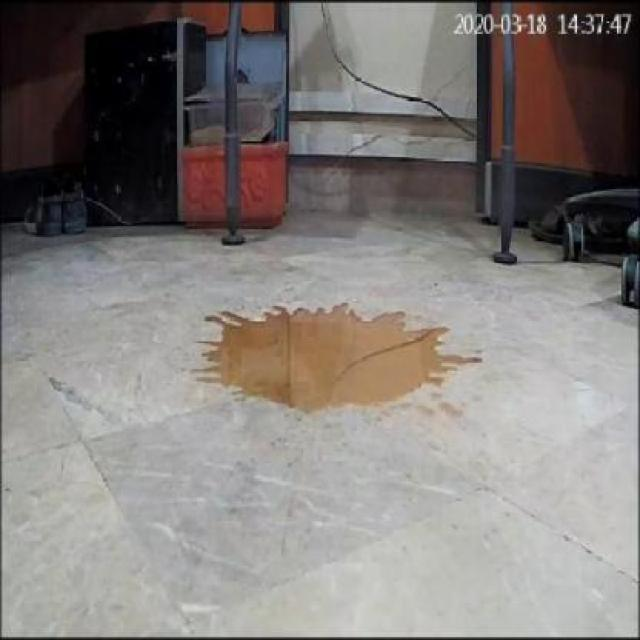spillage: (211, 307, 451, 416)
